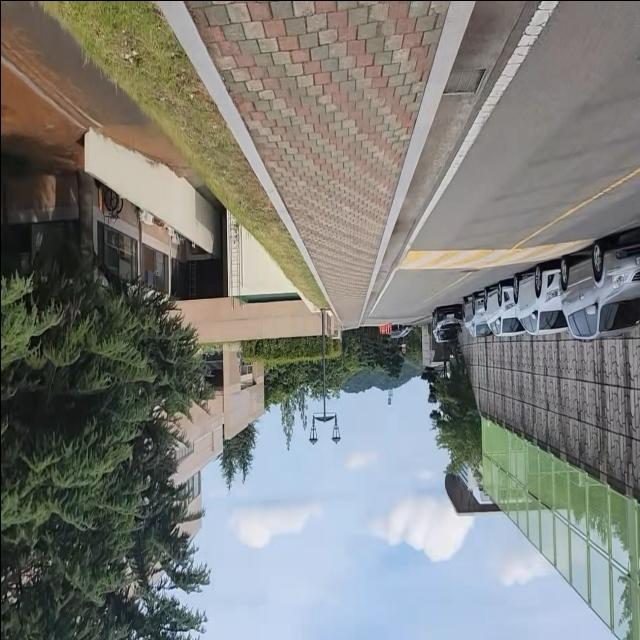obstacle: (459, 218, 640, 343)
road: (365, 0, 640, 318)
sidewalk: (157, 0, 475, 327)
